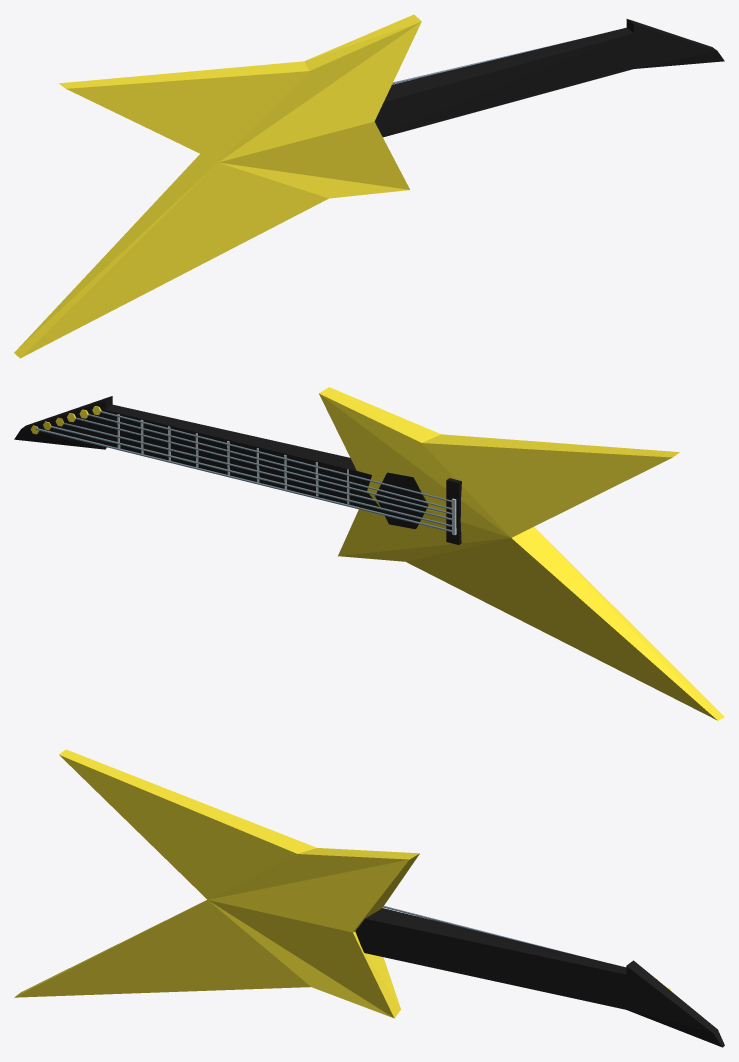
Rendered from guitar.glb.
3 renders of one model, top to bottom at view 1: azimuth 30°, elevation 25°; view 2: azimuth 150°, elevation 25°; view 3: azimuth 330°, elevation 25°, orthographic.
Visible parts, largest first — view 1: group1122908907, group1983323235, group1407990207; view 2: group1122908907, group1983323235, group1407990207, group1933570687, group1431985937, group173112336, group1384948276, group787936409, group996156578, group1499409560, group2086466501; view 3: group1122908907, group1983323235, group1407990207.
Boxes of the visible parts, x1,y1,x2,y2 form: group1122908907: (14, 14, 421, 358); group1983323235: (374, 27, 633, 137); group1407990207: (626, 19, 724, 68); group1122908907: (319, 387, 724, 720); group1983323235: (105, 404, 383, 512); group1407990207: (14, 396, 112, 449); group1933570687: (375, 472, 428, 528); group1431985937: (36, 428, 451, 531); group173112336: (51, 426, 451, 526); group1384948276: (63, 423, 451, 520); group787936409: (76, 417, 451, 514); group996156578: (88, 414, 451, 509); group1499409560: (100, 411, 451, 502); group2086466501: (446, 478, 461, 544); group1122908907: (14, 749, 419, 1018); group1983323235: (355, 908, 626, 1009); group1407990207: (626, 960, 724, 1047).
Bounding box in the file's own units: 1.66 × 0.5751 × 0.0939.
